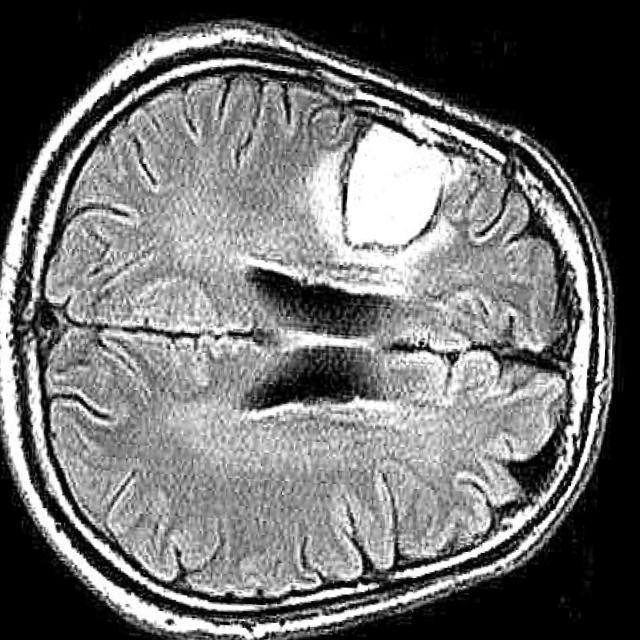Tumor: (349, 117, 447, 239)
